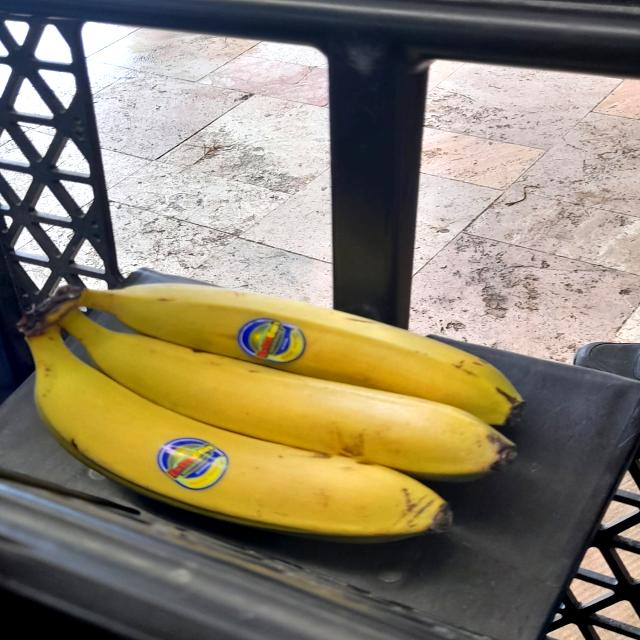banana: (64, 268, 535, 426)
